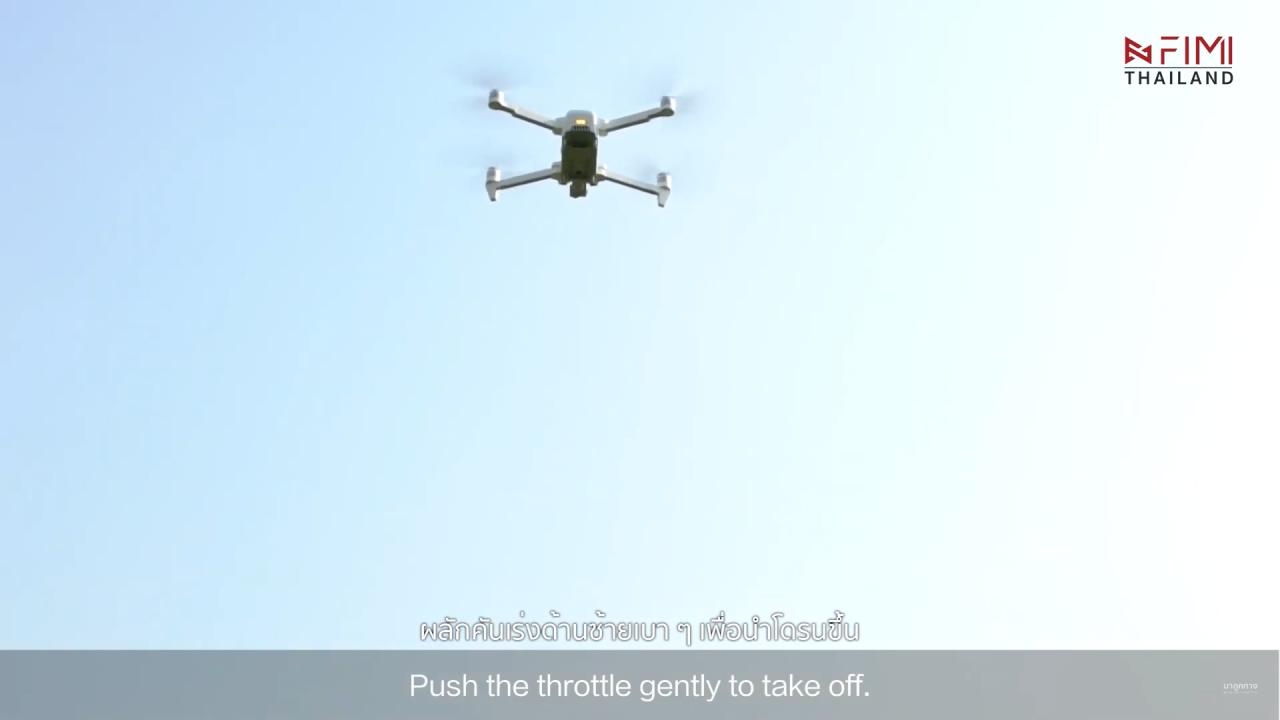Drone: (456, 70, 712, 226)
